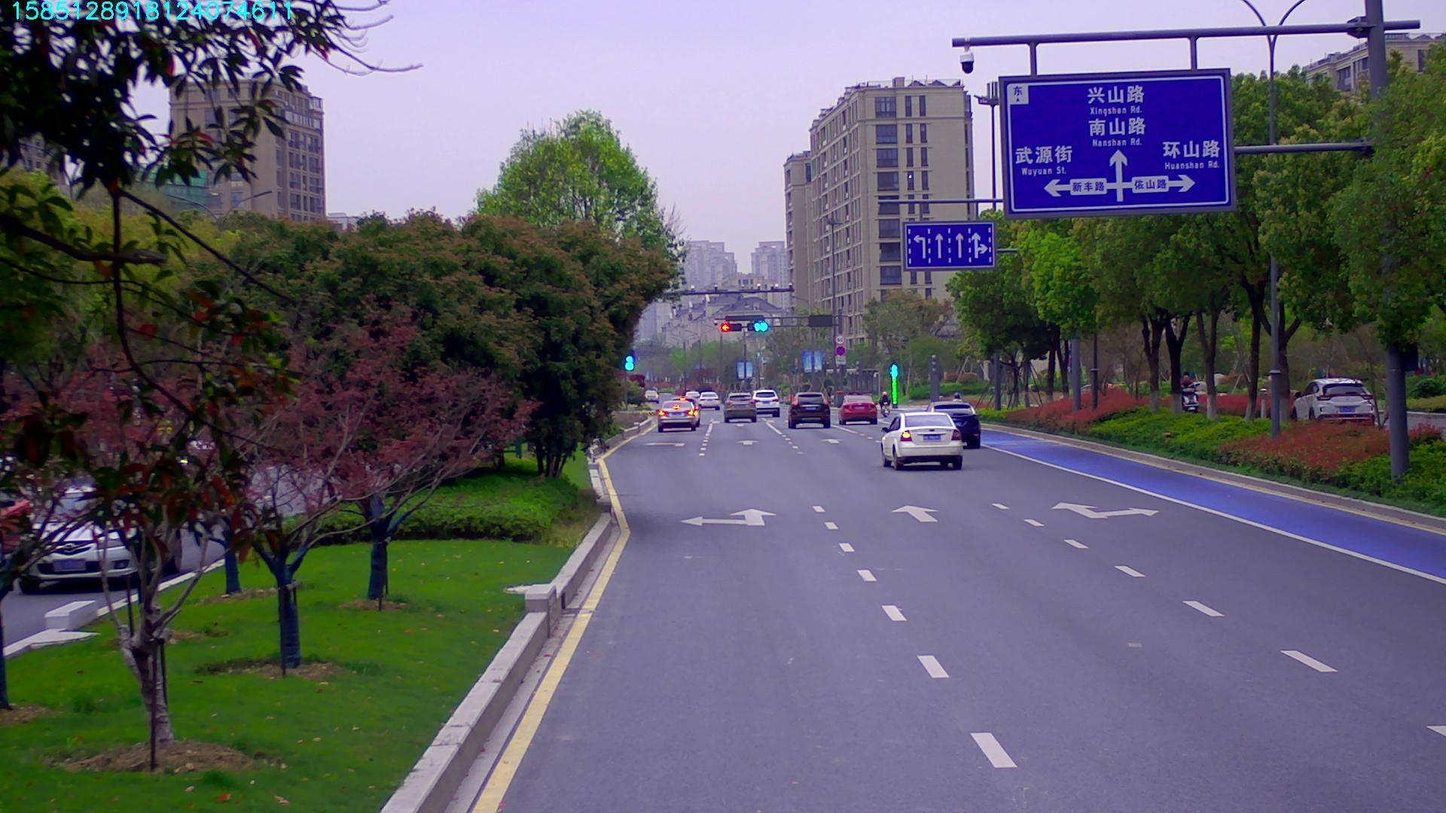green: (747, 320, 770, 334)
red: (721, 321, 745, 330)
